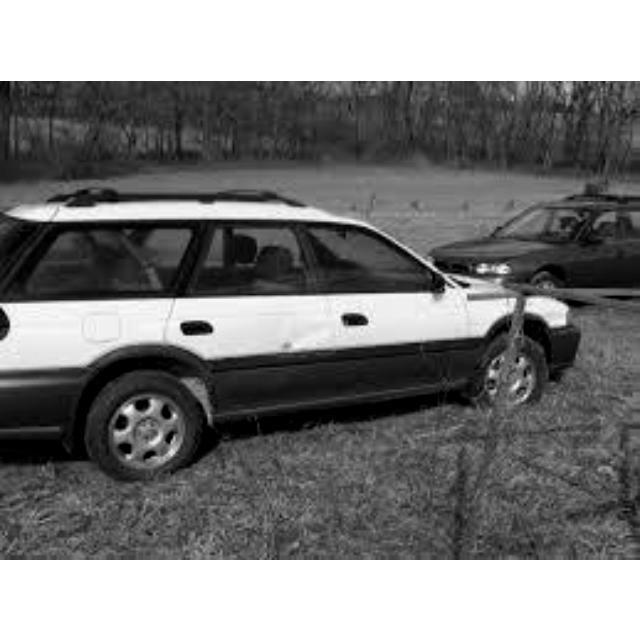doorouter-dent: (186, 293, 326, 394)
